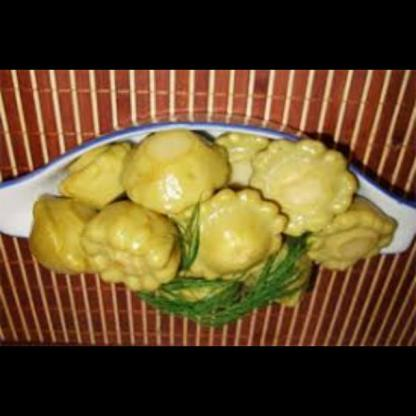squash-patisson: (68, 202, 181, 297), (253, 136, 353, 243), (126, 130, 231, 223), (176, 195, 289, 278), (299, 199, 392, 280), (25, 190, 97, 288), (58, 141, 136, 211)
